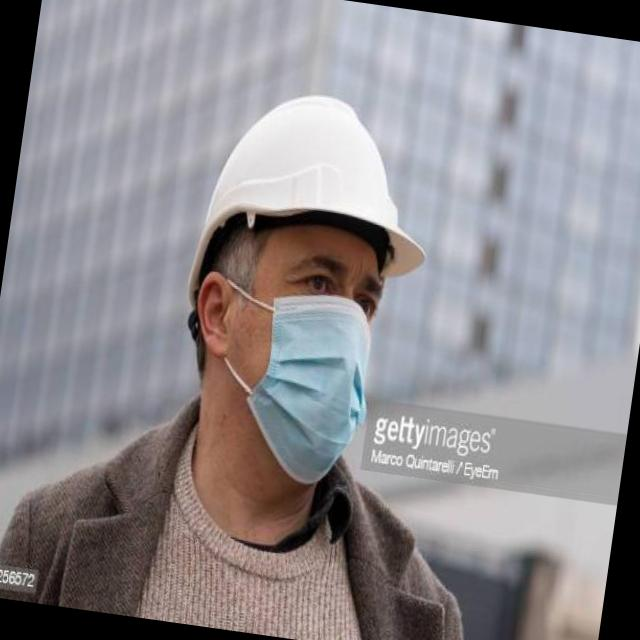Helmet: (180, 62, 470, 336)
